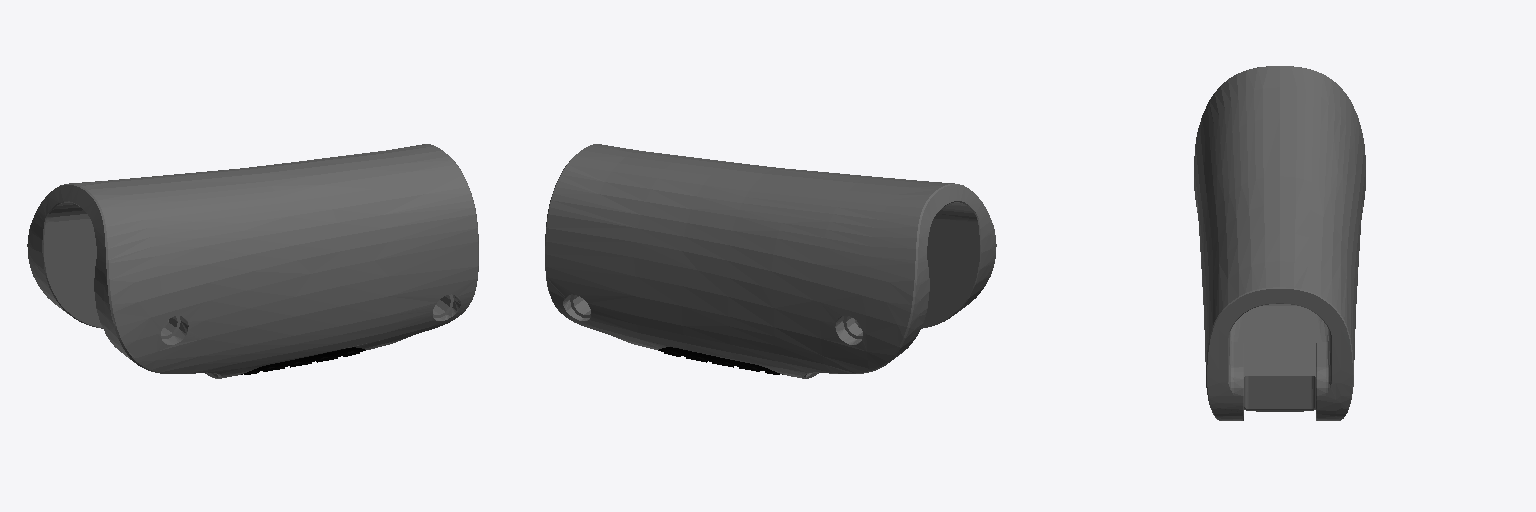
Rendered from L_ring_proximal_link.obj.
3 renders of one model, left to right at view 1: azimuth 30°, elevation 25°; view 2: azimuth 150°, elevation 25°; view 3: azimuth 270°, elevation 25°, orthographic.
Visible parts, largest first — view 1: L_ring_proximal_link; view 2: L_ring_proximal_link; view 3: L_ring_proximal_link.
Part boxes in pixels (left/top/right/bottom): L_ring_proximal_link: left=27, top=144, right=478, bottom=378; L_ring_proximal_link: left=545, top=144, right=996, bottom=378; L_ring_proximal_link: left=1194, top=66, right=1365, bottom=420.
Bounding box in the file's own units: 0.0425 × 0.0233 × 0.0169.